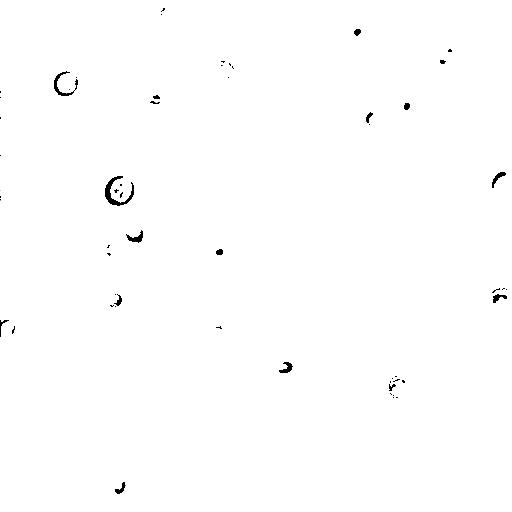micro-algae: (71, 131, 175, 231), (105, 175, 135, 207), (206, 234, 237, 264), (433, 39, 459, 72), (387, 373, 417, 401), (346, 21, 373, 48), (53, 70, 79, 97), (396, 95, 422, 121), (487, 289, 511, 315), (198, 305, 222, 330), (209, 59, 236, 81), (99, 239, 126, 261), (123, 220, 145, 243), (101, 288, 123, 309), (364, 109, 383, 133), (274, 357, 295, 377), (158, 3, 177, 24), (491, 171, 510, 192), (111, 473, 127, 496), (1, 317, 16, 337), (63, 503, 85, 511)
